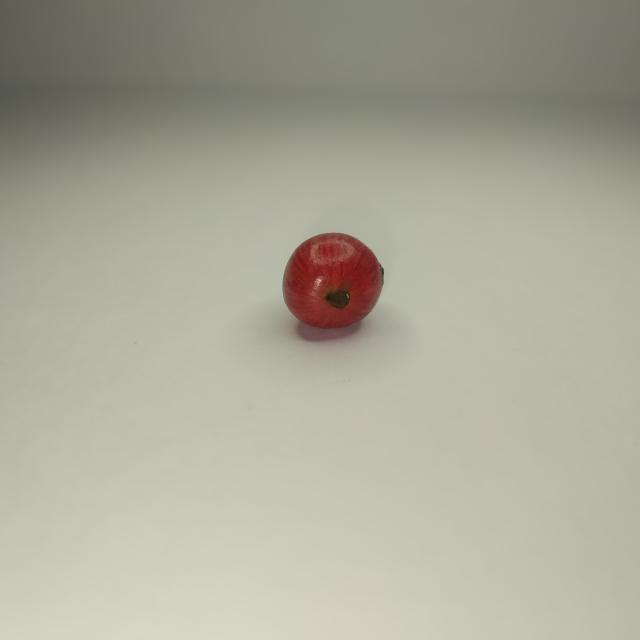Infectado: (283, 234, 382, 328)
